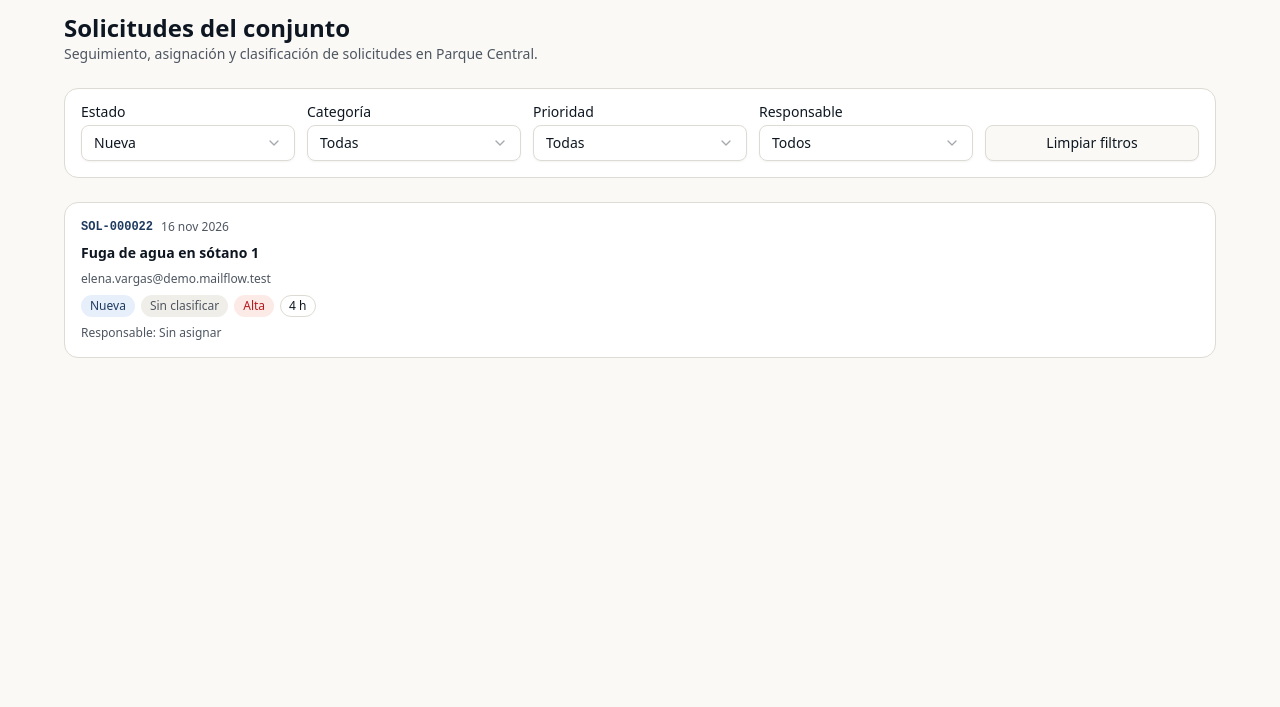
Test case: SolicitudesPage · filtros y parámetros de URL › lee ?estado= de la URL, permite filtrar por estado/categoría/prioridad/responsable y limpiar filtros
Expected: the text "SOL-000022" is shown, [81,219,153,235]
Expected: the text "SOL-000020" is not shown
Click the button "Limpiar filtros" at (1092, 143), box [985,125,1199,161]
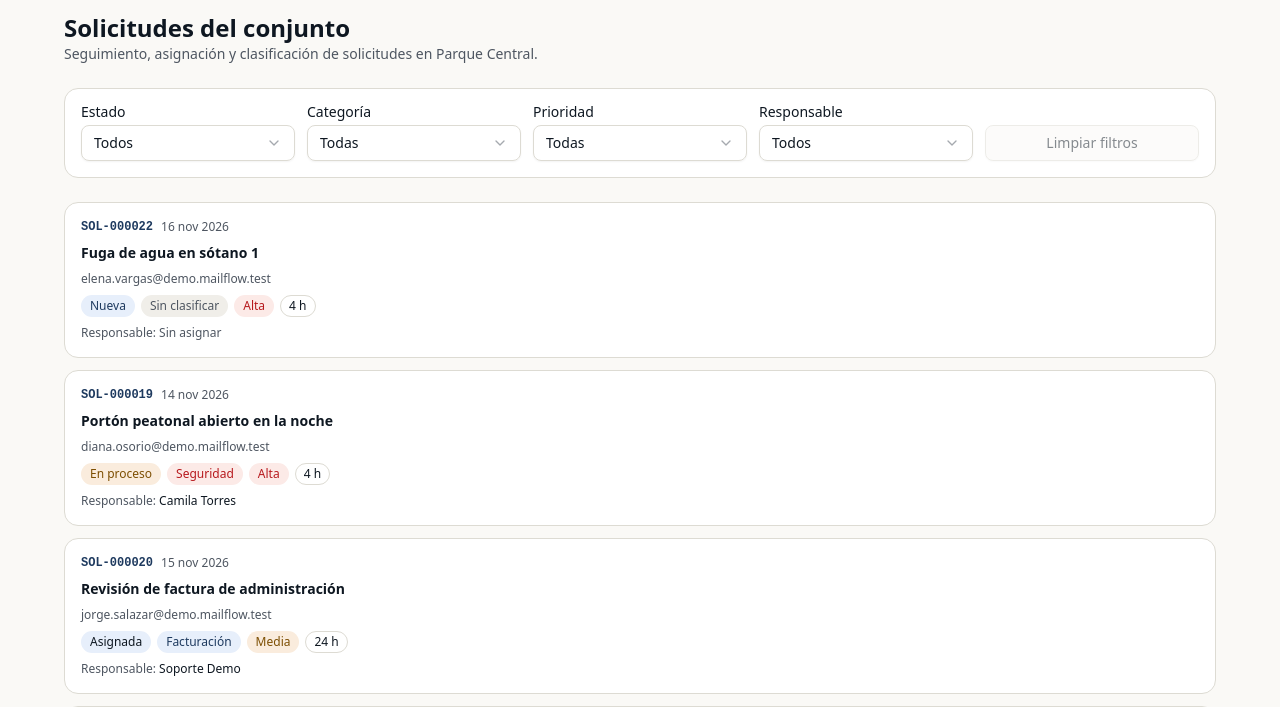
Expected: the text "SOL-000020" is shown, [81,555,153,571]
# Filtrar por responsable Camila Torres (id 3)
Click the dropdown named "responsable" at (866, 143), box [759,125,973,161]
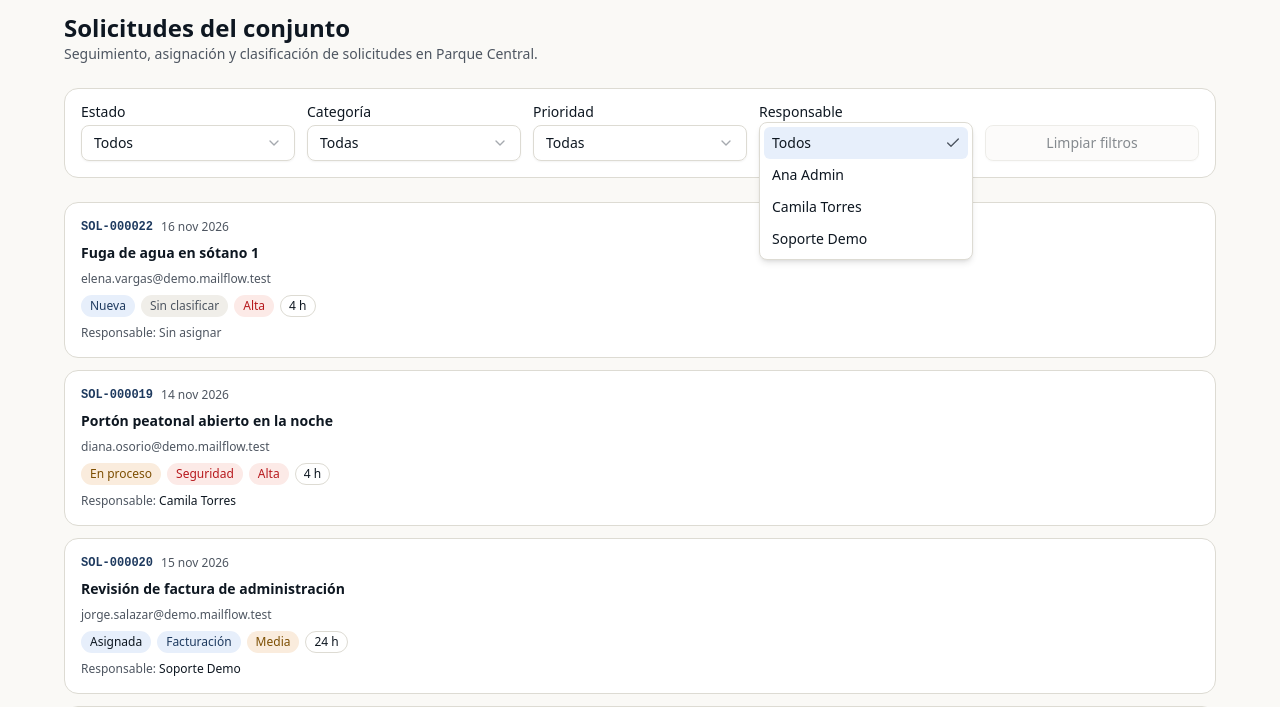
Click the option "Camila Torres" at (817, 206), box [772,197,862,216]
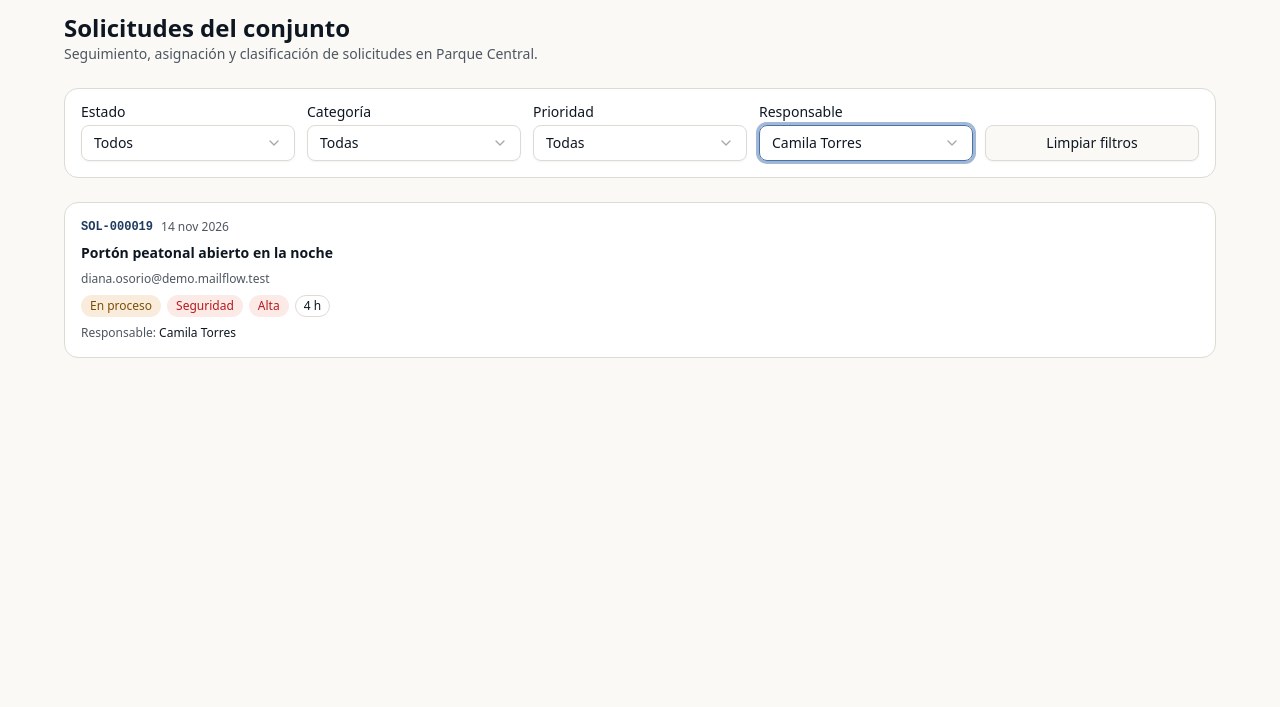
Expected: the text "SOL-000019" is shown, [81,219,153,235]
Expected: the button "SOL-000022" is gone
